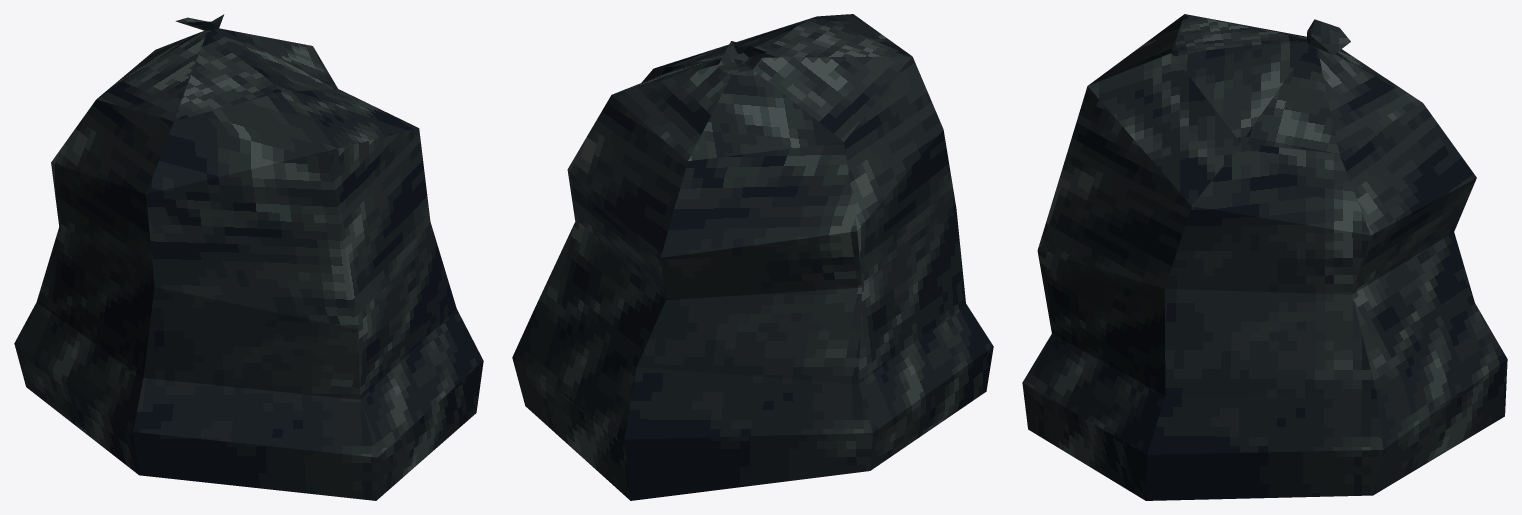
File: trashbag_1.glb
3 renders of one model, left to right at view 1: azimuth 30°, elevation 25°; view 2: azimuth 150°, elevation 25°; view 3: azimuth 270°, elevation 25°, orthographic. The views are drawn at different scales.
Visible parts, largest first — view 1: trashbag_1; view 2: trashbag_1; view 3: trashbag_1.
Part boxes in pixels (<box>): trashbag_1: <box>14,14,483,500</box>; trashbag_1: <box>512,14,993,500</box>; trashbag_1: <box>1022,14,1507,500</box>.
Size of the model in its own units: 0.7709 by 0.8094 by 0.9171.
1 material, 1 textured.
